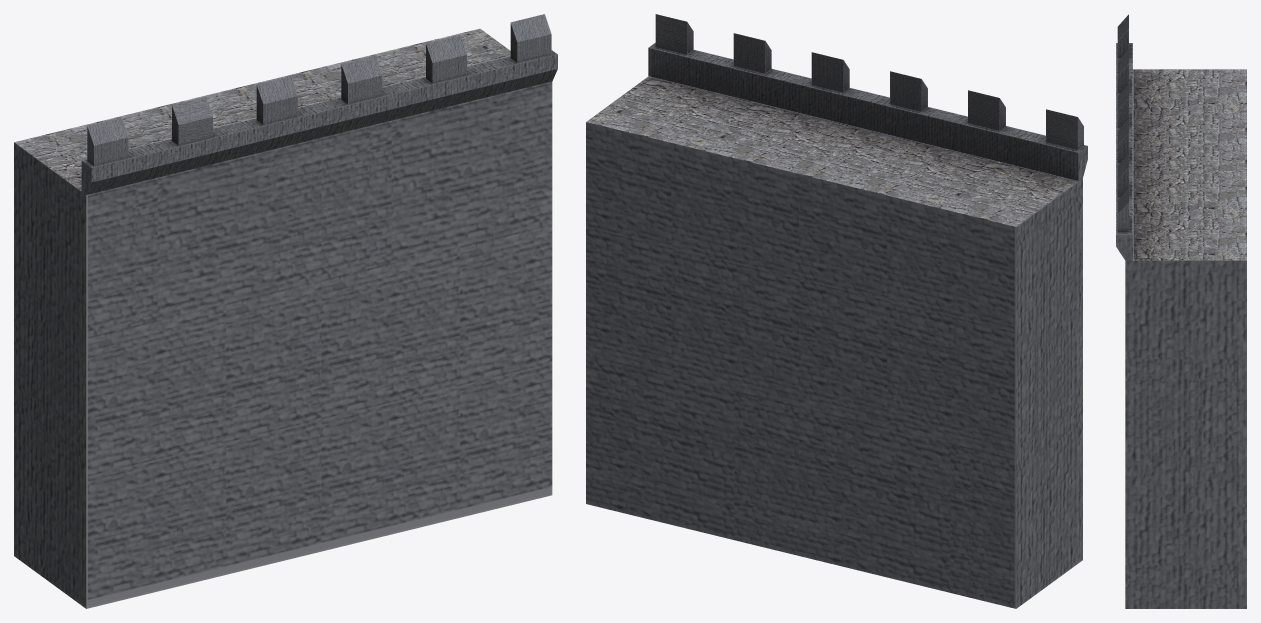
File: castle_wall.FBX
3 views of the same model, side by side, from view 1: azimuth 30°, elevation 25°; view 2: azimuth 150°, elevation 25°; view 3: azimuth 270°, elevation 25° (orthographic). The views are drawn at different scales.
Parts seen in each view (by area): view 1: Box002; view 2: Box002; view 3: Box002.
Boxes of the visible parts, box(x1,y1,x2,y2) form: Box002: box(14, 14, 557, 608); Box002: box(586, 14, 1087, 608); Box002: box(1116, 14, 1246, 608).
Size of the model in its own units: 69.4 by 20.04 by 68.43.
